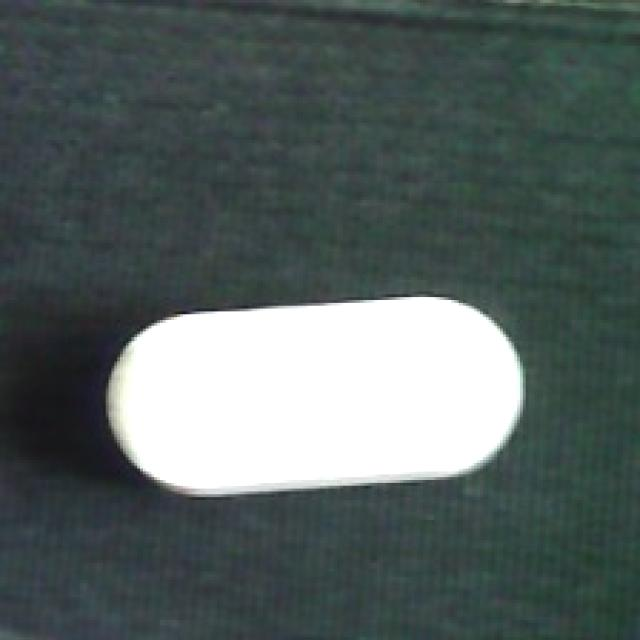no-defect: (103, 289, 528, 497)
